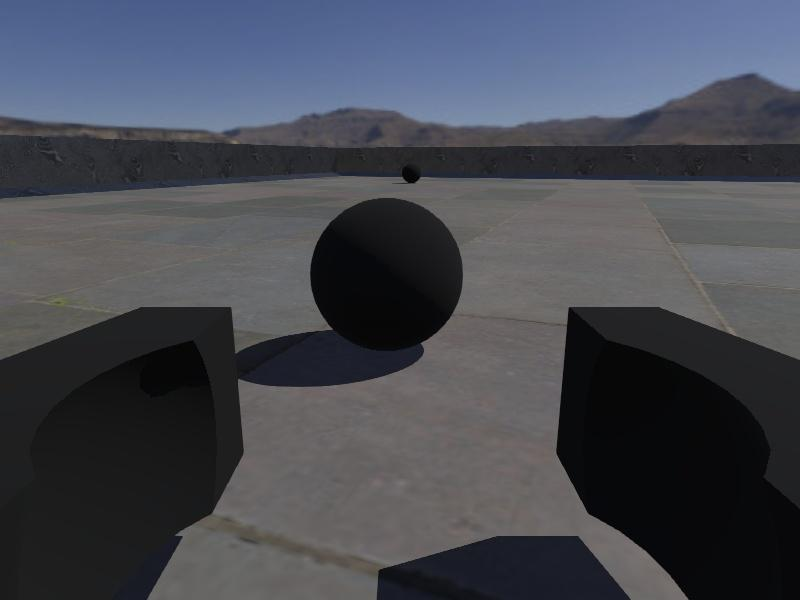black ball: (310, 196, 465, 352), (401, 162, 421, 184)
